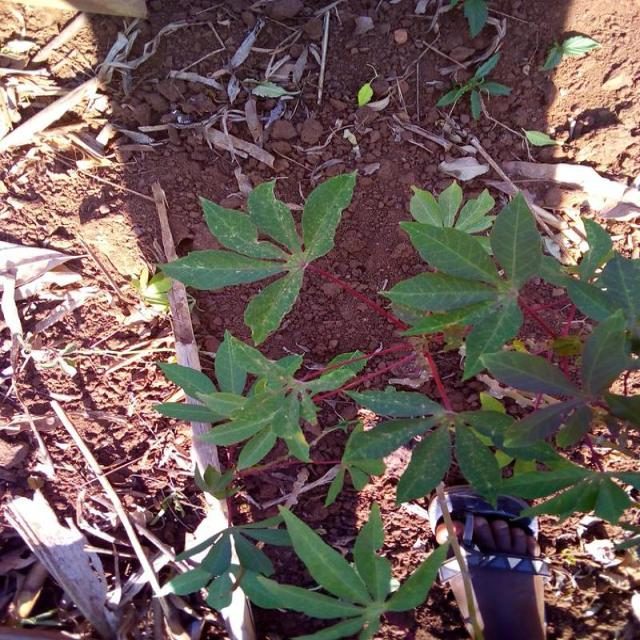cassava leaf: (155, 168, 359, 346)
